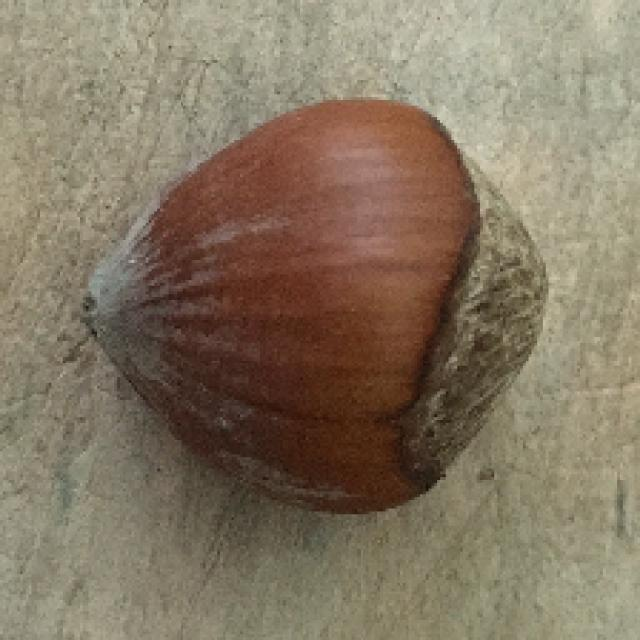qualityHazelnut: (66, 95, 549, 526)
